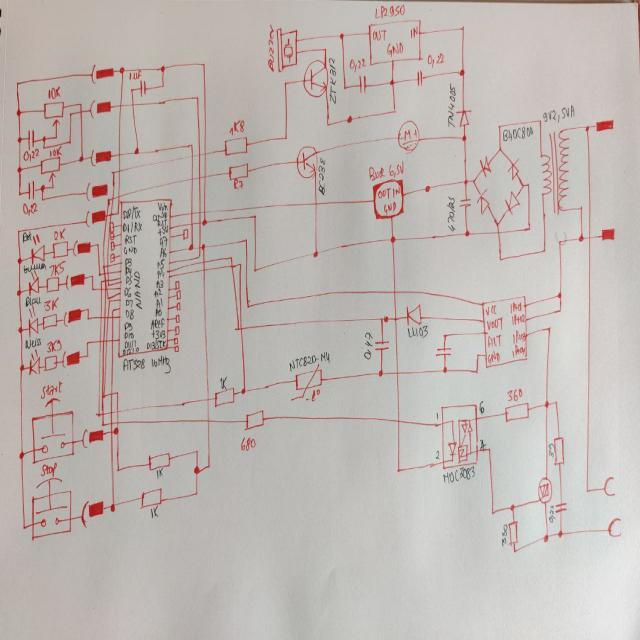capacitor: (414, 69, 426, 89), (373, 337, 389, 351), (554, 500, 568, 514), (458, 195, 472, 208), (434, 346, 452, 356), (358, 73, 366, 94), (138, 80, 148, 96), (27, 180, 35, 200), (27, 128, 35, 147)
crossover: (391, 288, 397, 296), (394, 368, 400, 375), (396, 416, 402, 423), (587, 233, 591, 240), (202, 173, 206, 180), (197, 151, 201, 158), (206, 396, 210, 403), (206, 416, 210, 423), (98, 338, 102, 344), (314, 200, 318, 206), (229, 262, 233, 268), (201, 258, 205, 264), (202, 266, 206, 272), (190, 220, 194, 226), (202, 150, 206, 156), (115, 418, 119, 424), (105, 263, 109, 268), (106, 270, 110, 275), (98, 314, 102, 319), (110, 337, 114, 342), (115, 407, 119, 412), (102, 263, 106, 268), (117, 150, 120, 156), (109, 210, 112, 216), (109, 410, 112, 416), (190, 176, 194, 180), (190, 154, 194, 158), (198, 209, 201, 214), (103, 314, 106, 319), (240, 324, 242, 330), (203, 209, 206, 213), (118, 168, 120, 174), (117, 193, 120, 197), (103, 270, 106, 274), (104, 286, 107, 290), (198, 244, 200, 249), (190, 210, 192, 215), (198, 174, 200, 179), (106, 211, 108, 216), (110, 391, 112, 396), (198, 220, 200, 224), (104, 277, 106, 281), (107, 277, 109, 280), (100, 286, 102, 289), (106, 315, 108, 318), (111, 315, 113, 318), (102, 338, 104, 341), (105, 338, 107, 341)
diode: (29, 232, 46, 264), (503, 189, 521, 217), (25, 304, 39, 338), (26, 347, 41, 377), (475, 188, 491, 215), (26, 268, 40, 297), (406, 302, 422, 327), (454, 106, 472, 128), (506, 157, 520, 180), (479, 154, 492, 176)
junction: (118, 64, 126, 75), (457, 66, 465, 77), (192, 464, 200, 474), (16, 325, 24, 334), (110, 502, 116, 514), (441, 364, 448, 374), (77, 153, 84, 163), (312, 249, 319, 259), (578, 232, 584, 243), (542, 531, 548, 542), (133, 145, 139, 156), (543, 398, 549, 409), (509, 502, 515, 512), (18, 449, 24, 459), (556, 528, 562, 538), (15, 107, 21, 117), (16, 134, 22, 144), (282, 132, 288, 142), (39, 182, 45, 192), (18, 363, 24, 373), (424, 184, 431, 192), (240, 386, 246, 395), (389, 77, 395, 86), (16, 164, 22, 173), (159, 64, 165, 73), (462, 177, 468, 186), (584, 123, 590, 132), (494, 218, 500, 227), (16, 287, 22, 296), (461, 133, 467, 142), (577, 204, 583, 212), (201, 218, 207, 226), (463, 229, 469, 237), (390, 234, 396, 242), (378, 368, 383, 377), (324, 120, 330, 127), (205, 462, 211, 469), (200, 60, 206, 67), (14, 79, 20, 86), (556, 237, 562, 244), (159, 82, 165, 89), (556, 291, 562, 298), (188, 244, 194, 251), (16, 257, 22, 264), (67, 137, 72, 145), (252, 212, 257, 220), (115, 465, 120, 473), (21, 522, 26, 530), (497, 145, 502, 153), (525, 180, 530, 188), (512, 546, 517, 554), (114, 425, 118, 435), (41, 134, 46, 142), (526, 224, 531, 232), (196, 95, 200, 104), (584, 486, 589, 493), (342, 83, 347, 90), (557, 306, 562, 313), (392, 106, 396, 114), (460, 23, 464, 31), (383, 314, 387, 322), (78, 100, 82, 108), (111, 167, 115, 175), (554, 397, 558, 405), (238, 260, 242, 268), (201, 243, 206, 249), (194, 489, 198, 496), (442, 331, 446, 338), (542, 246, 546, 253), (490, 508, 494, 515), (188, 141, 192, 148), (68, 110, 72, 117), (283, 79, 287, 86), (246, 301, 250, 308), (243, 236, 247, 243), (90, 285, 94, 292), (520, 182, 524, 189), (472, 177, 476, 184), (18, 190, 22, 197), (115, 390, 119, 397), (96, 410, 100, 417), (16, 227, 20, 234), (497, 122, 501, 129), (85, 338, 89, 344), (96, 240, 100, 246), (547, 325, 551, 331), (396, 466, 400, 472), (498, 255, 502, 261), (474, 368, 478, 374), (475, 351, 479, 357), (252, 266, 256, 272), (85, 352, 89, 358), (86, 306, 90, 312), (228, 254, 232, 260), (394, 315, 398, 321), (379, 315, 383, 321), (40, 196, 44, 202), (100, 420, 104, 426), (194, 448, 198, 454), (102, 392, 106, 398), (51, 183, 55, 188), (90, 273, 94, 278), (236, 325, 239, 331), (97, 272, 101, 276), (86, 316, 90, 320), (538, 118, 542, 122), (488, 446, 490, 452), (197, 254, 200, 258), (100, 279, 102, 283), (111, 307, 113, 311), (107, 197, 109, 200), (108, 298, 110, 301), (107, 296, 109, 298)
resistor: (38, 156, 66, 181), (147, 450, 171, 476), (42, 102, 66, 128), (139, 485, 163, 509), (213, 384, 235, 409), (224, 134, 248, 156), (503, 401, 529, 421), (243, 409, 265, 430), (228, 162, 250, 180), (553, 435, 565, 467), (51, 240, 69, 258), (41, 312, 58, 330), (43, 354, 59, 372), (45, 274, 61, 292), (508, 520, 518, 542)
switch: (29, 394, 75, 464), (29, 472, 71, 542)
terminal: (607, 516, 623, 540), (599, 224, 616, 243), (603, 474, 615, 496)
text: (120, 354, 172, 374), (368, 159, 407, 180), (288, 351, 330, 369), (541, 104, 575, 124), (442, 464, 476, 483), (502, 125, 532, 142), (373, 4, 405, 19), (446, 81, 456, 128), (40, 379, 64, 398), (328, 54, 336, 104), (132, 268, 142, 308), (227, 118, 247, 137), (266, 24, 274, 71), (446, 193, 456, 230), (362, 329, 373, 359), (317, 155, 325, 195), (348, 55, 366, 72), (426, 50, 444, 67), (45, 336, 62, 353), (22, 261, 46, 273), (48, 260, 66, 276), (122, 204, 140, 220), (509, 328, 526, 344), (239, 435, 256, 451), (41, 461, 57, 478), (386, 40, 404, 55), (596, 117, 614, 132), (122, 220, 144, 232), (408, 324, 428, 337), (42, 296, 59, 311), (24, 335, 42, 349), (23, 294, 42, 307), (485, 333, 501, 348), (485, 316, 501, 331), (305, 386, 321, 401), (22, 146, 39, 160), (21, 201, 38, 215), (50, 227, 68, 240), (506, 387, 522, 401), (372, 27, 386, 41), (382, 200, 396, 214), (47, 86, 63, 98), (46, 146, 62, 158), (486, 350, 500, 363), (408, 23, 418, 40), (508, 300, 522, 312), (218, 374, 230, 388), (127, 68, 141, 80), (484, 302, 496, 316), (121, 346, 139, 355), (510, 313, 524, 324), (124, 233, 138, 244), (21, 228, 32, 242), (512, 344, 524, 356), (149, 330, 167, 338), (548, 503, 556, 521), (502, 522, 508, 546), (154, 468, 167, 479), (378, 187, 390, 198), (150, 504, 159, 518), (150, 319, 164, 328), (124, 245, 138, 254), (232, 180, 244, 190), (145, 341, 165, 347), (548, 439, 554, 458), (152, 217, 168, 224), (478, 437, 486, 451), (124, 309, 134, 320), (150, 212, 168, 218), (157, 226, 169, 235), (156, 268, 166, 278), (154, 278, 164, 288), (156, 202, 168, 210), (478, 399, 484, 414), (158, 236, 168, 245), (158, 246, 167, 256), (392, 186, 400, 197), (156, 258, 164, 269), (124, 274, 132, 285), (124, 285, 132, 296), (123, 339, 135, 346), (122, 257, 132, 265), (124, 330, 134, 338), (154, 287, 162, 296), (154, 298, 163, 306), (124, 321, 132, 330), (152, 309, 162, 316), (124, 266, 132, 274), (124, 298, 132, 306), (434, 408, 438, 422), (436, 448, 440, 459), (111, 195, 114, 201), (116, 209, 119, 214)
transformer: (536, 126, 571, 218)
transistor: (300, 56, 328, 96), (293, 143, 317, 178)
